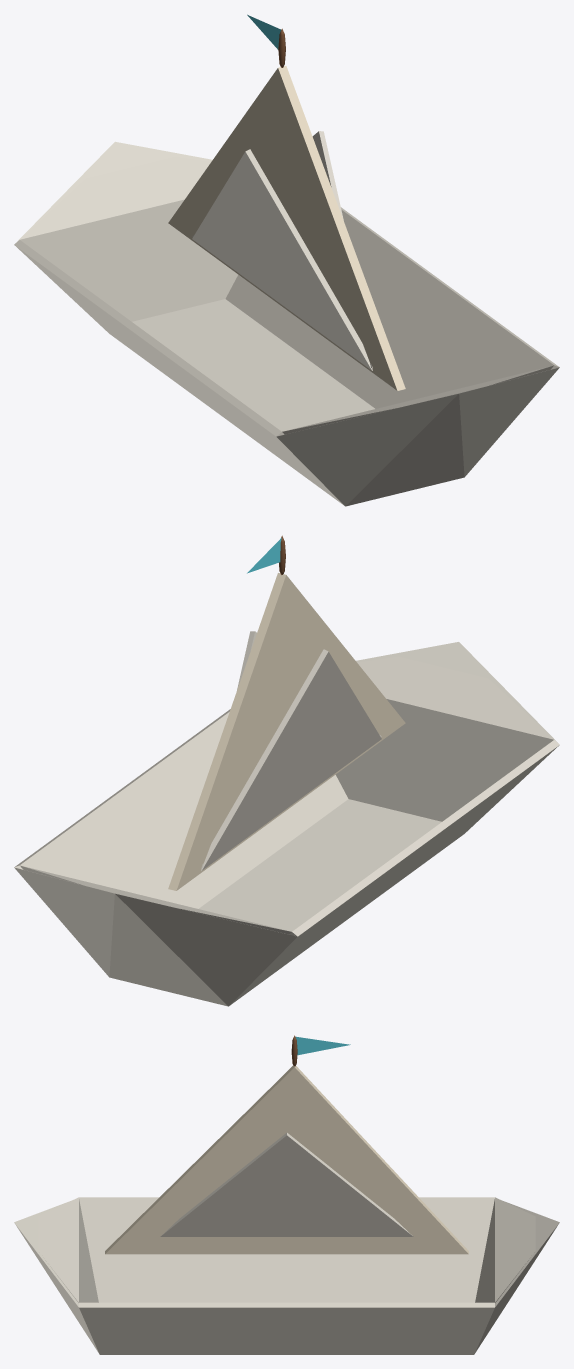
The model's file is boat.glb.
3 renders of one model, top to bottom at view 1: azimuth 30°, elevation 25°; view 2: azimuth 150°, elevation 25°; view 3: azimuth 270°, elevation 25°, orthographic. The views are drawn at different scales.
Visible parts, largest first — view 1: boat:mesh; view 2: boat:mesh; view 3: boat:mesh.
Part boxes in pixels (left/top/right/bottom): boat:mesh: left=14, top=14, right=559, bottom=506; boat:mesh: left=14, top=535, right=559, bottom=1006; boat:mesh: left=14, top=1035, right=559, bottom=1354.
Bounding box in the file's own units: 1.7 × 2.14 × 3.57.
